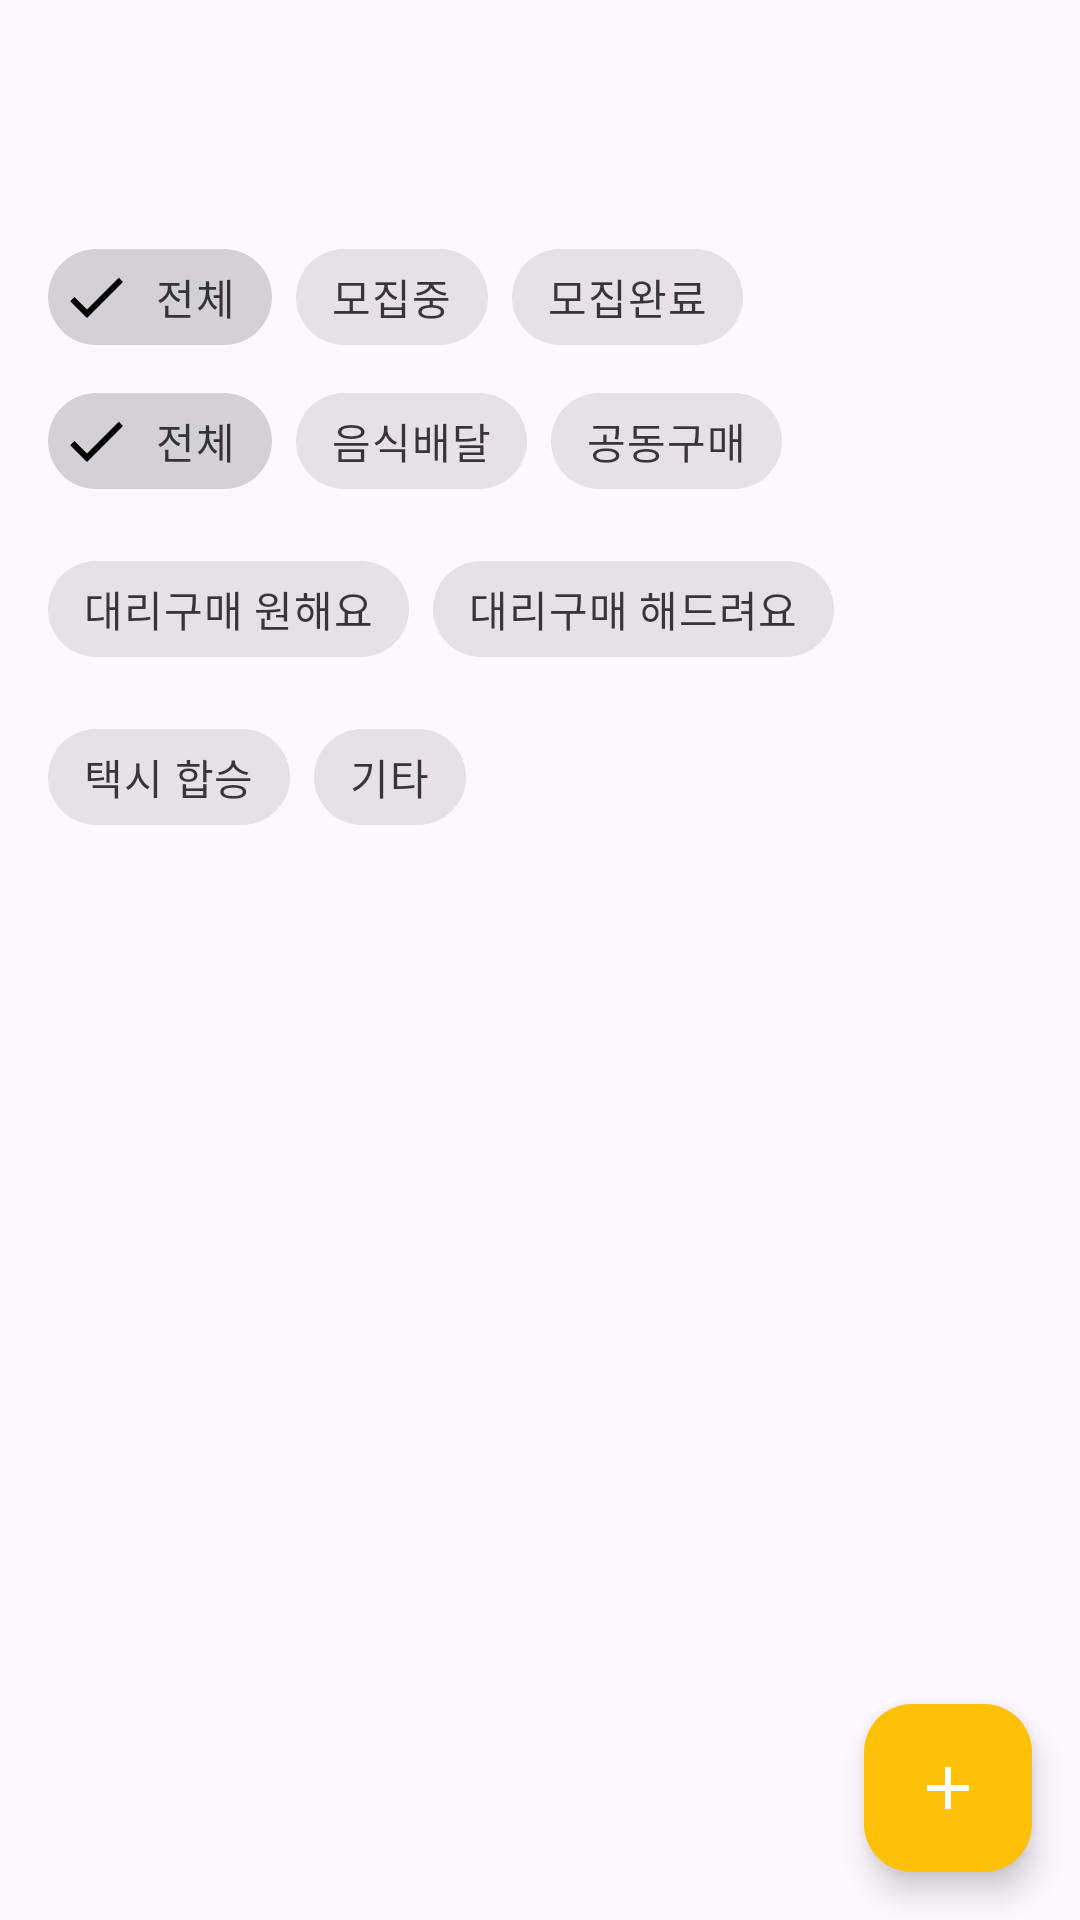

Icon click points for this 1080px x 1920px phone screenshot, format point (x, y):
새 게시글 작성: point (948, 1788)
